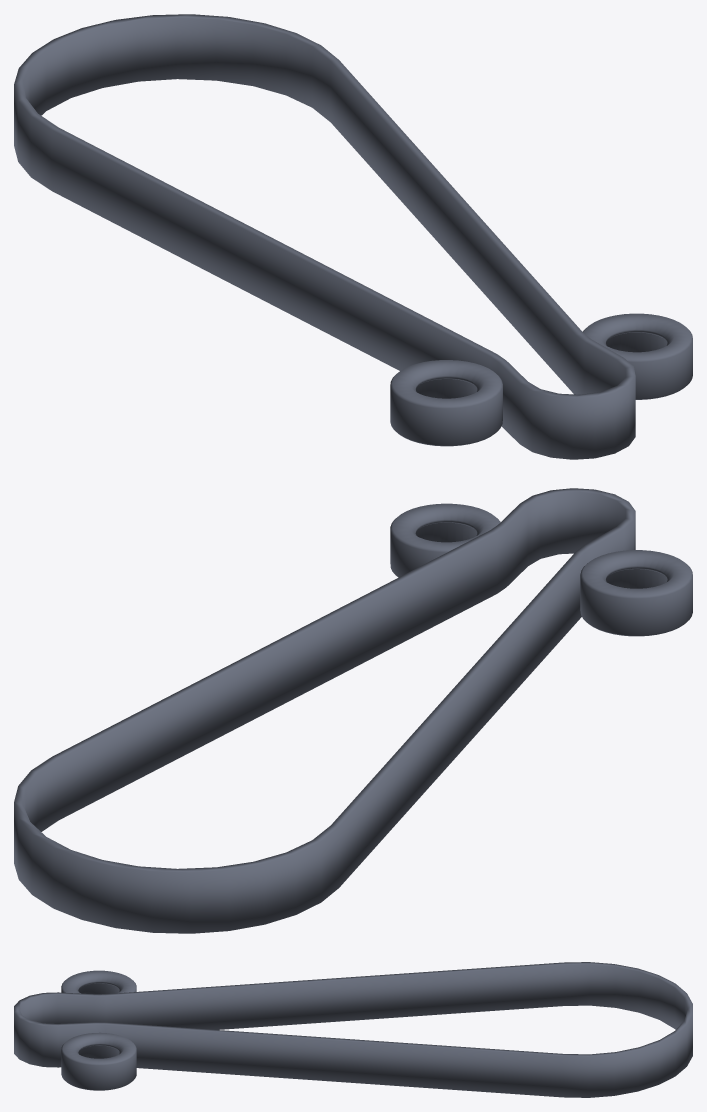
File: solo_upper_leg_right_side_0.obj
3 views of the same model, one above another, from view 1: azimuth 30°, elevation 25°; view 2: azimuth 150°, elevation 25°; view 3: azimuth 270°, elevation 25° (orthographic). The views are drawn at different scales.
Size of the model in its own units: 0.0298 by 0.006 by 0.09.
